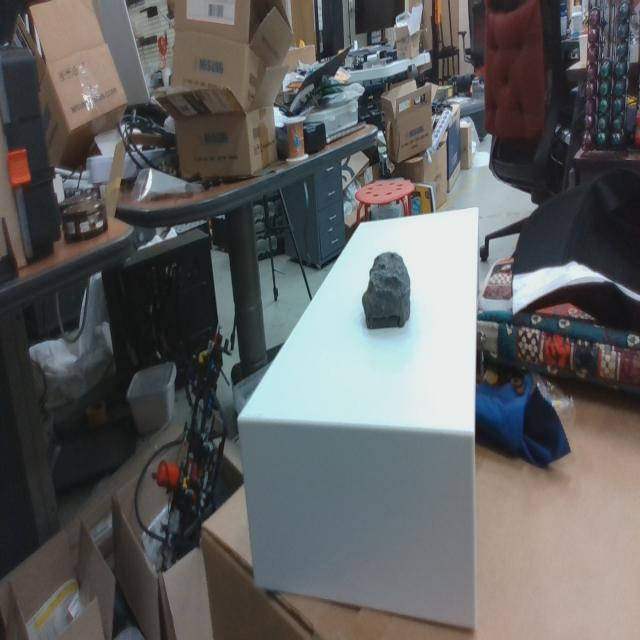stone: (363, 252, 411, 330)
